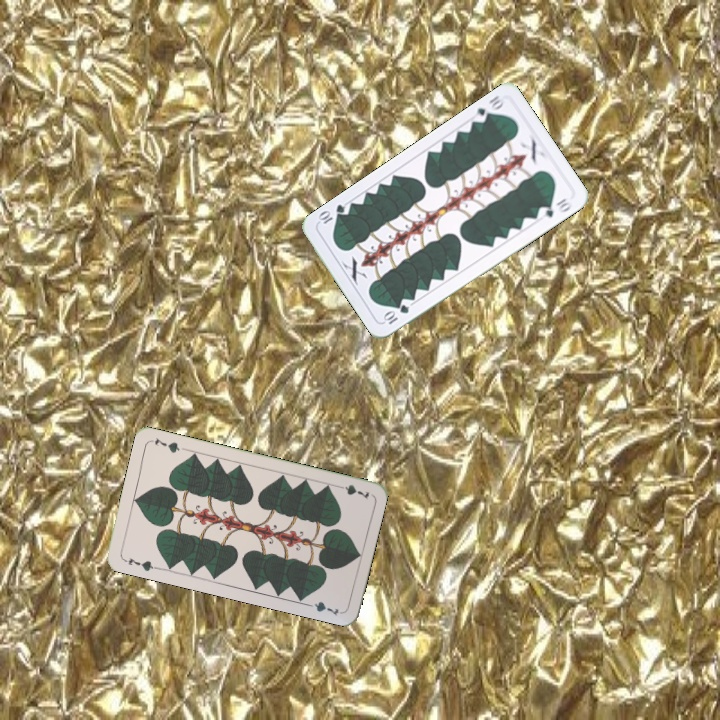G10: (469, 91, 506, 126), (379, 300, 412, 327)
G7: (332, 480, 372, 502), (120, 553, 160, 574)
